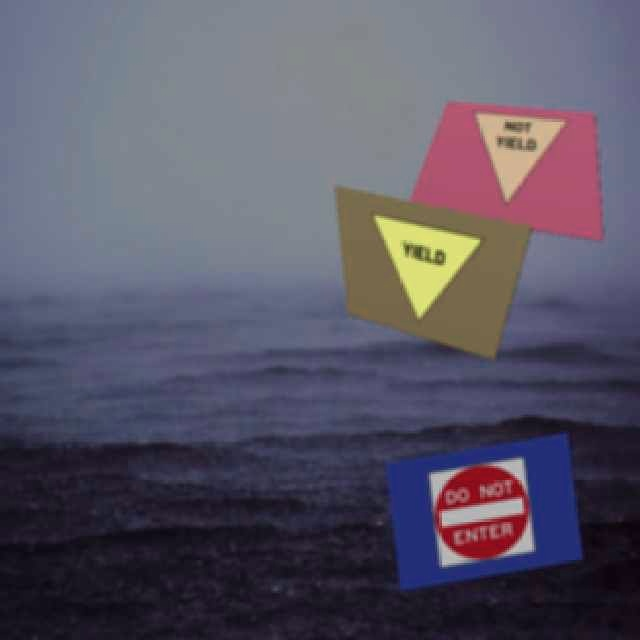DO_NOT_ENTER: (427, 455, 535, 567)
NOT_YIELD: (448, 110, 568, 212)
YIELD: (354, 209, 484, 336)
